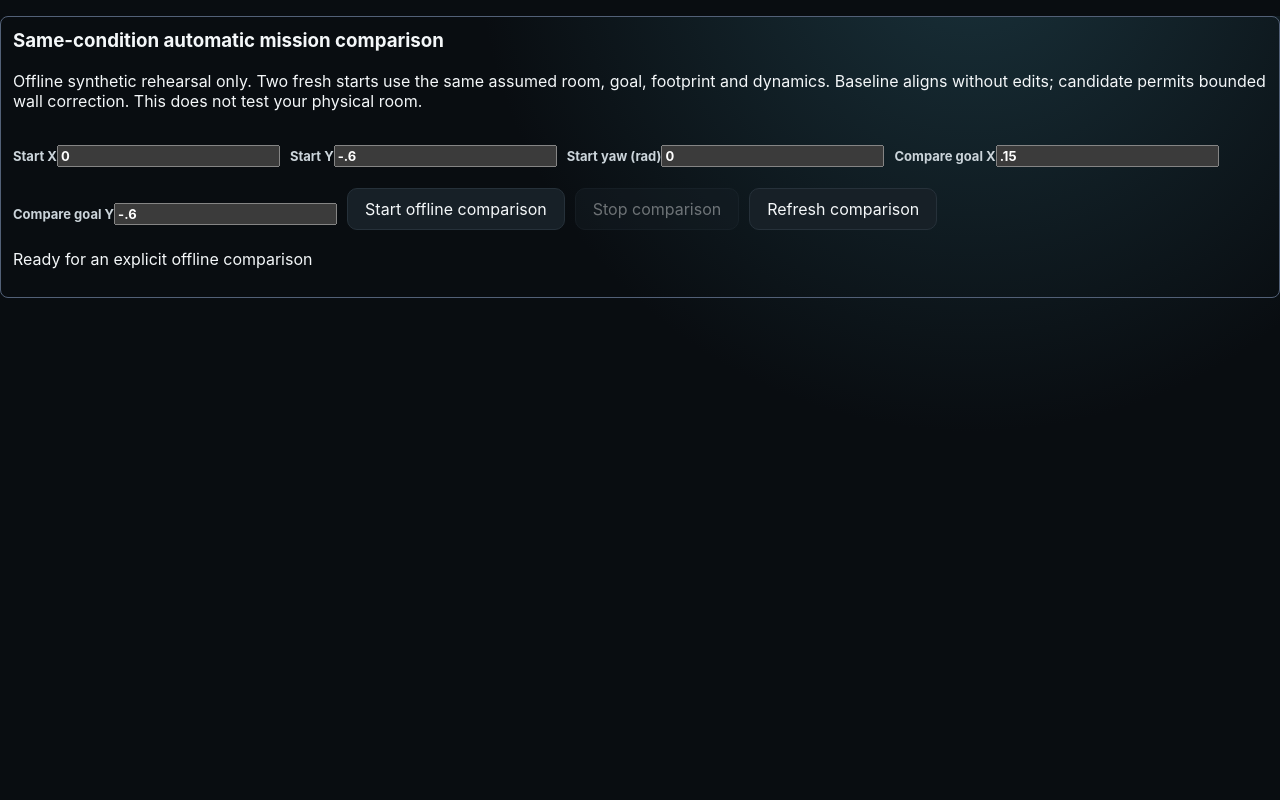
Test: executed automatic comparison › never runs on open; one request starts the pair and shows synthetic failures without improvement
Click the button "Start offline comparison".
click(456, 209)  # box [347,188,565,230]
(page scrolled)
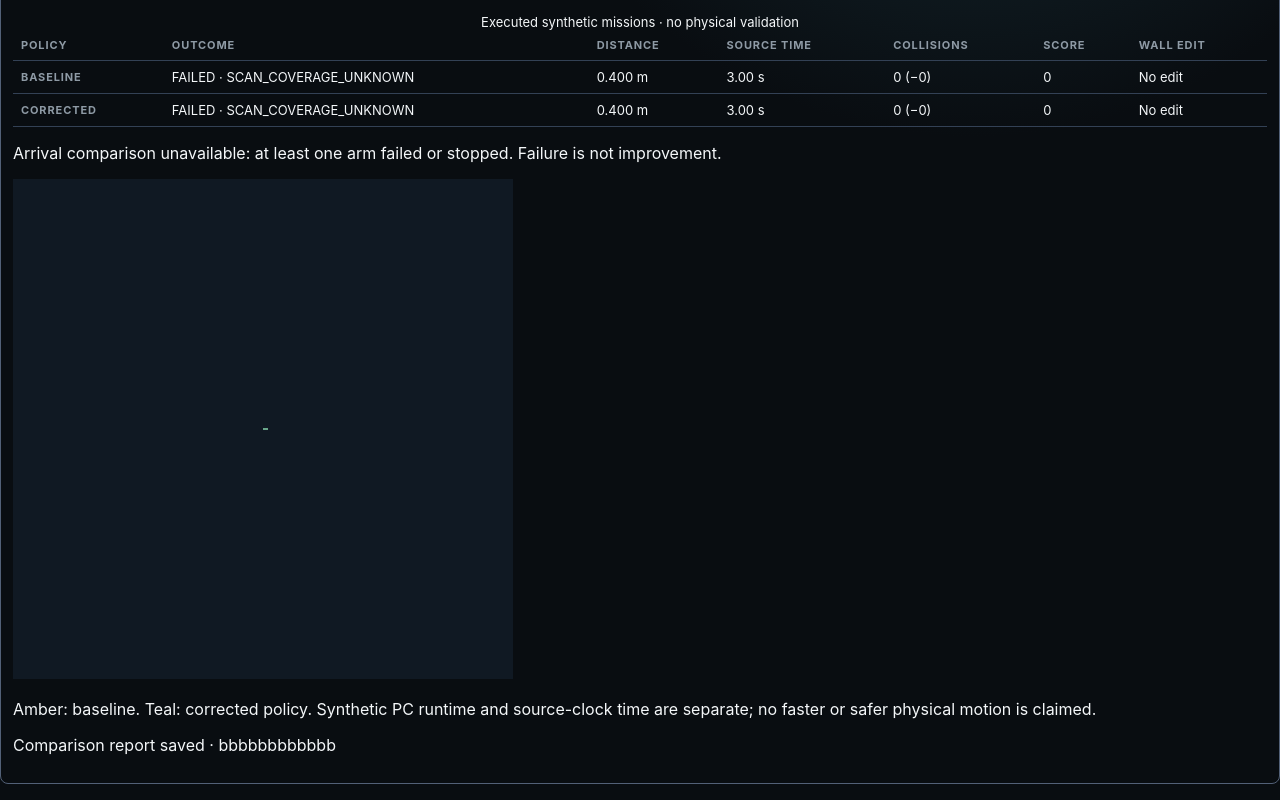
expect the text "Arrival comparison unavailable" is shown: met, box [13,143,722,163]
expect the picture named "Comparison executed trajectories" is shown: met, box [13,179,513,679]
